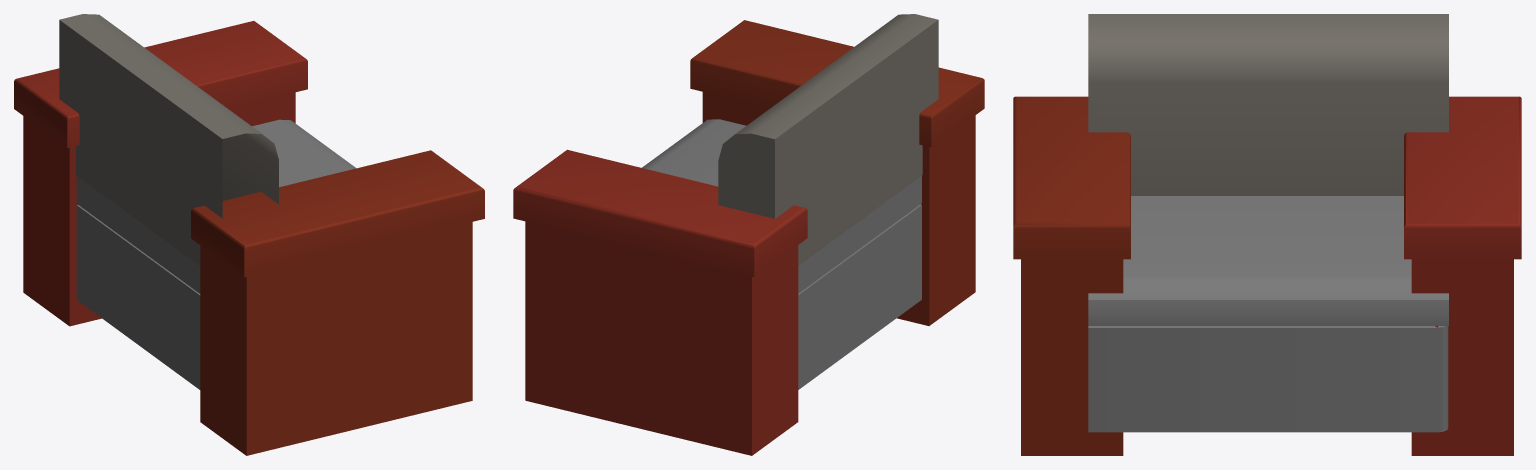
The model's file is sofaN2.glb.
3 views of the same model, side by side, from view 1: azimuth 30°, elevation 25°; view 2: azimuth 150°, elevation 25°; view 3: azimuth 270°, elevation 25° (orthographic). The views are drawn at different scales.
Parts seen in each view (by area): view 1: Cube.002, Cube.003, Cube.004, Cube; view 2: Cube.004, Cube.003, Cube.002, Cube; view 3: Cube, Cube.003, Cube.002, Cube.004.
Part boxes in pixels (x1,y1,x2,y2): Cube.002: (191, 150, 484, 455); Cube.003: (59, 14, 278, 265); Cube.004: (14, 21, 307, 326); Cube: (76, 119, 356, 389); Cube.004: (513, 149, 807, 455); Cube.003: (718, 14, 938, 265); Cube.002: (690, 20, 984, 325); Cube: (642, 119, 921, 389); Cube: (1088, 196, 1448, 432); Cube.003: (1088, 14, 1448, 195); Cube.002: (1013, 96, 1130, 455); Cube.004: (1404, 96, 1521, 455).
Bounding box in the file's own units: 0.6486 × 0.7546 × 1.07.
